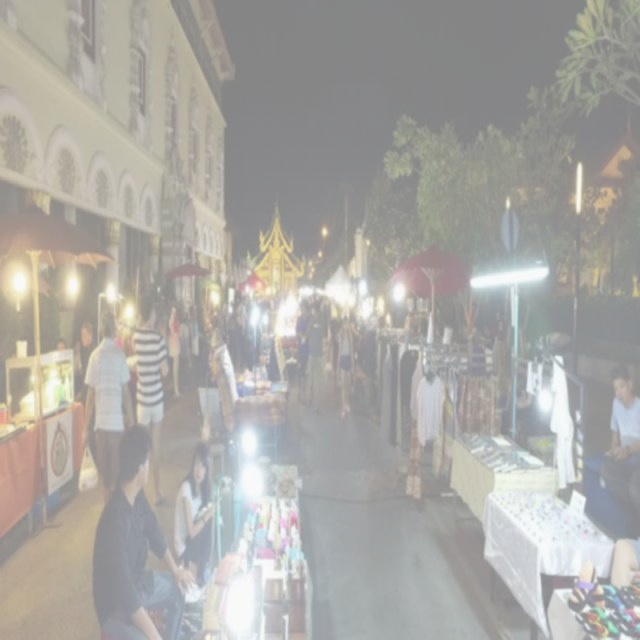pessoa: (88, 417, 198, 639), (81, 309, 136, 504), (125, 287, 172, 512), (598, 358, 640, 514), (173, 440, 213, 590), (216, 274, 262, 378), (75, 318, 99, 469), (504, 351, 534, 454), (167, 302, 200, 394), (304, 298, 328, 414), (333, 310, 356, 420), (602, 534, 639, 594), (348, 300, 367, 398), (296, 296, 312, 404), (326, 303, 344, 397), (478, 306, 510, 351), (70, 336, 84, 376), (55, 338, 67, 350)
